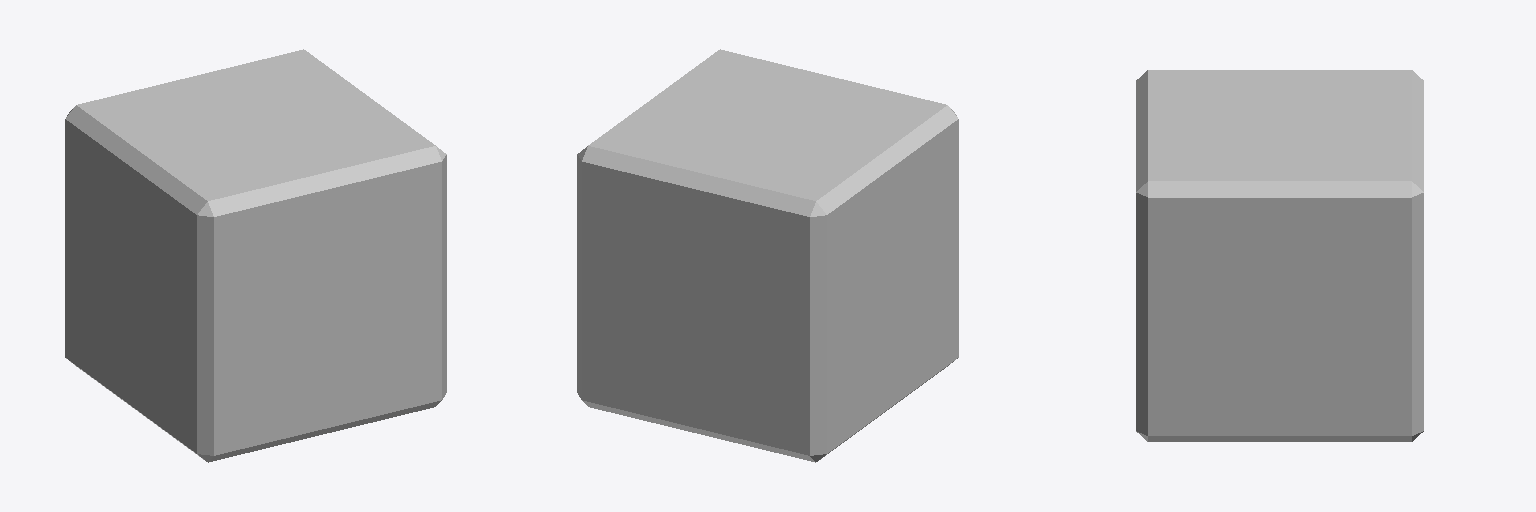
File: obj_interactive_seatedclick.obj
The picture shows the model from 3 angles: view 1: azimuth 30°, elevation 25°; view 2: azimuth 150°, elevation 25°; view 3: azimuth 270°, elevation 25°; orthographic projection.
Visible parts, largest first — view 1: Cube3; view 2: Cube3; view 3: Cube3.
Boxes of the visible parts, box(x1,y1,x2,y2) form: Cube3: box(65, 49, 446, 462); Cube3: box(577, 49, 958, 462); Cube3: box(1136, 70, 1423, 441).
Bounding box in the file's own units: 1 × 1 × 1.